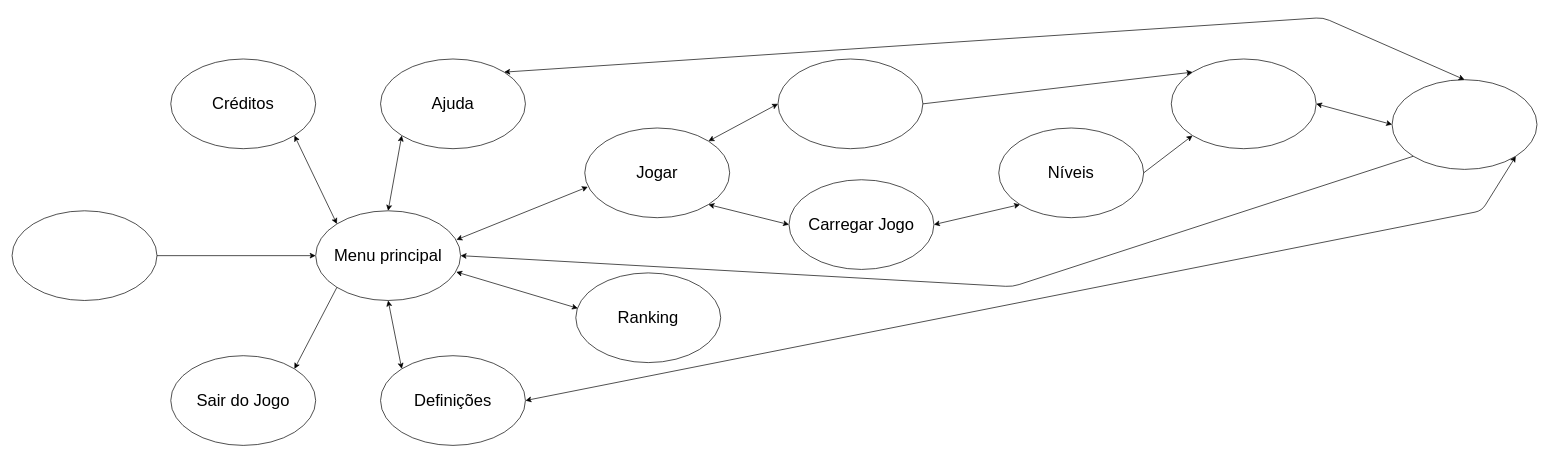
Some shapes in this 1549 by 457 pixel diagram are drawn without their labels. Here are the shapes that lost their labels. From the top down, the centre of each, then its label:
pixel 850 103: Novo Jogo
pixel 1243 103: Jogo
pixel 1464 124: Menu Pausa
pixel 84 255: Apresentação
